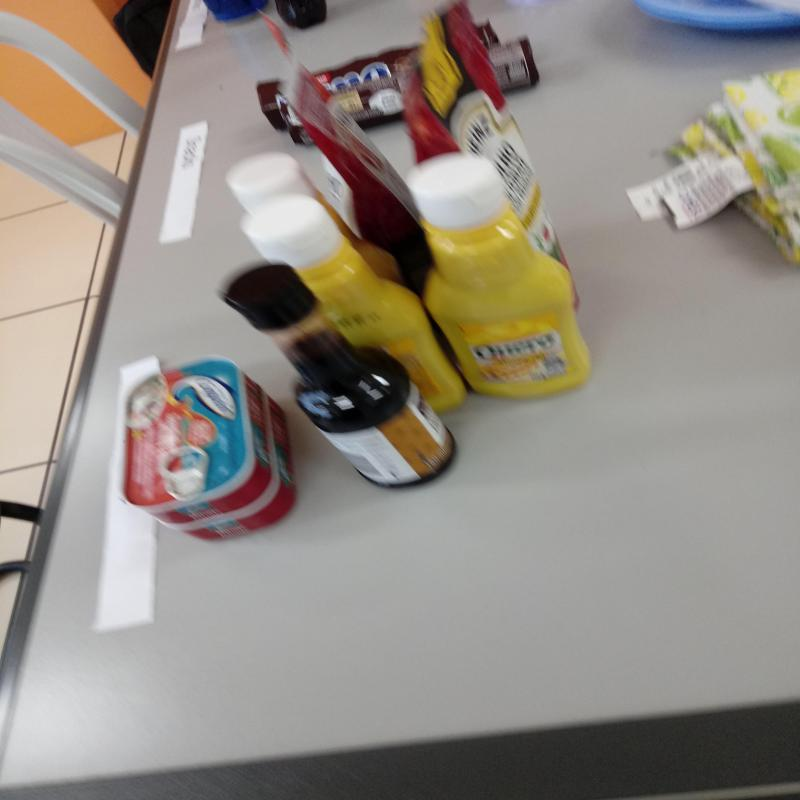Cloth: (634, 67, 800, 273)
Cookies: (255, 17, 546, 145)
EnglishSauce: (217, 262, 465, 485)
Mustard: (234, 197, 472, 425), (394, 138, 595, 406)
TomatoSauce: (409, 5, 578, 279), (254, 13, 424, 261)
TunaCan: (118, 358, 270, 524)
